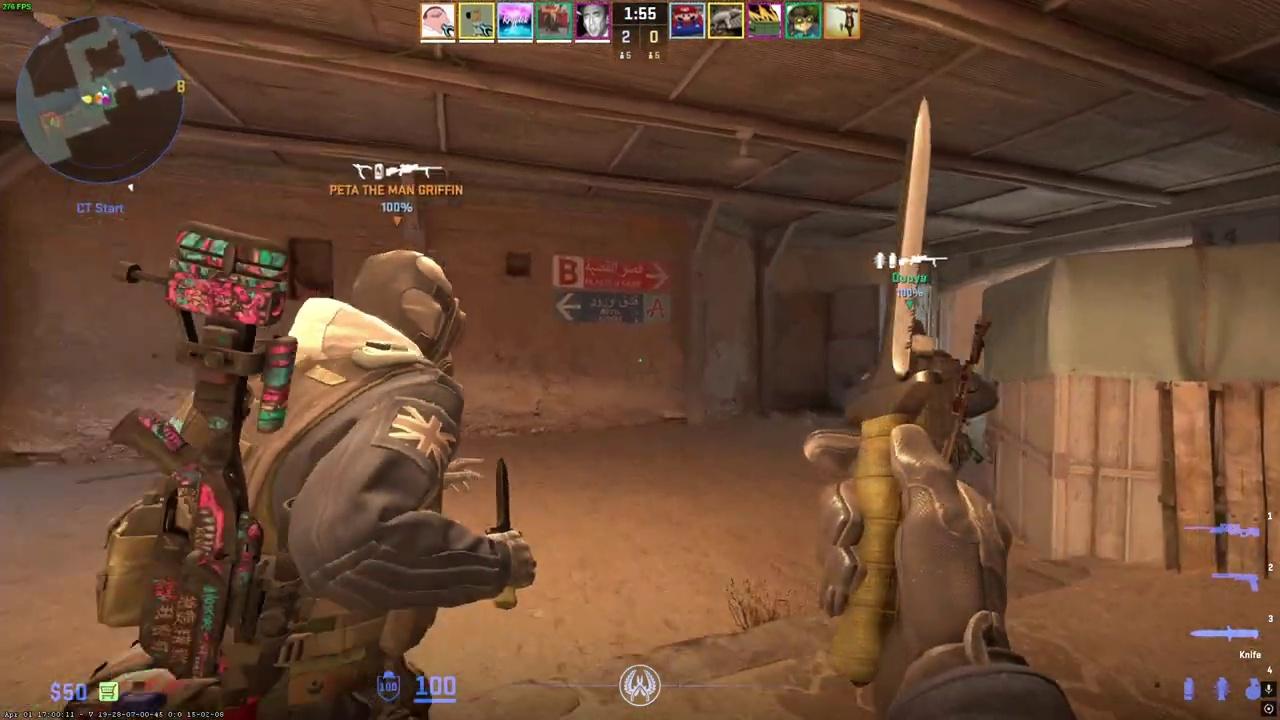CT: (226, 249, 517, 720), (909, 318, 979, 469)
